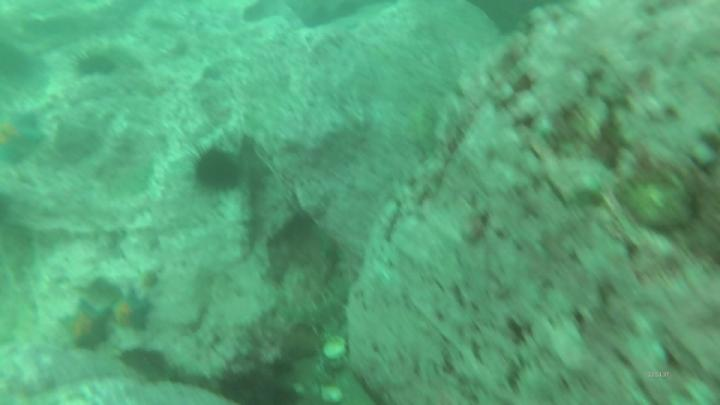holothurian: (57, 306, 109, 346), (1, 115, 42, 165), (113, 294, 152, 331)
starfish: (199, 152, 240, 188), (75, 54, 113, 75)
